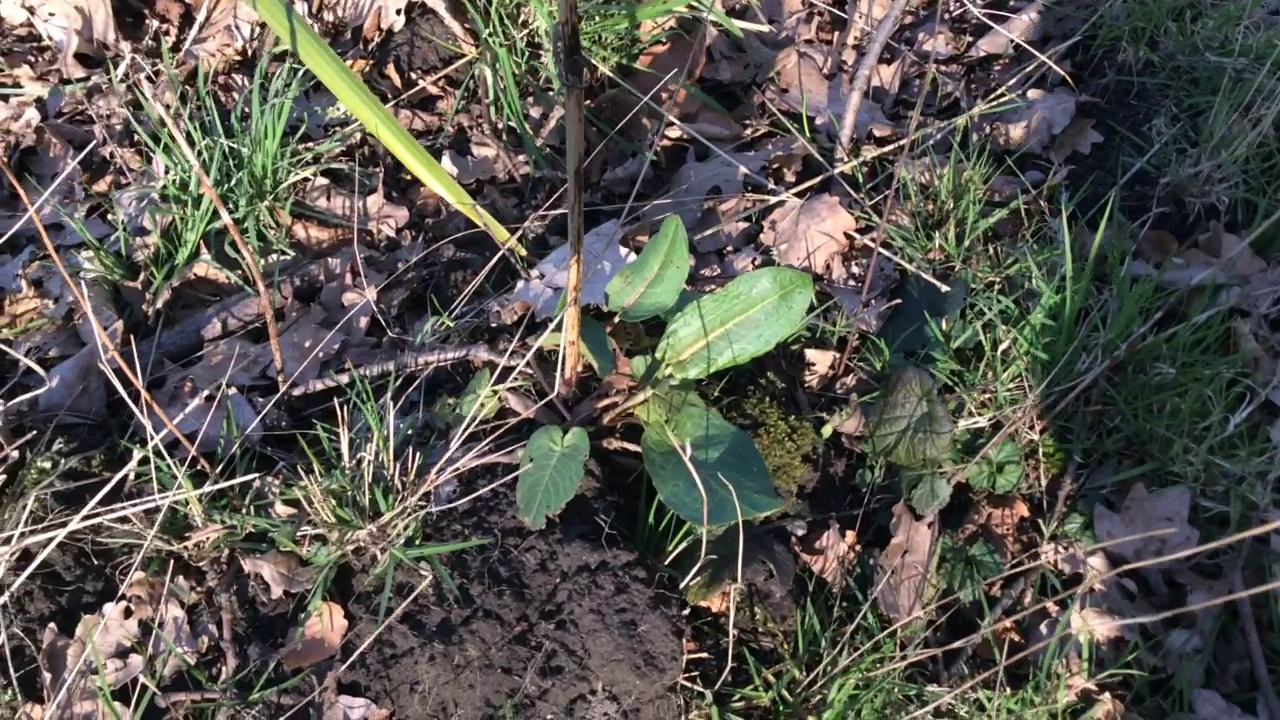rumex: (457, 214, 816, 528)
